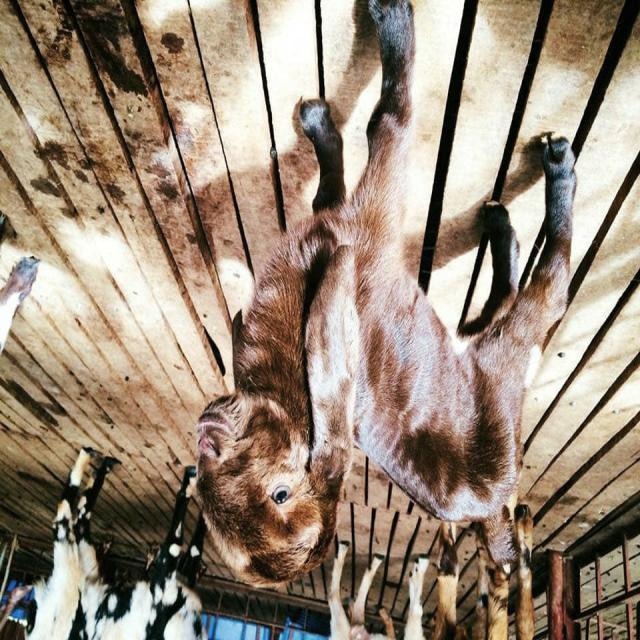Goat: (186, 2, 577, 595), (23, 447, 209, 640)
